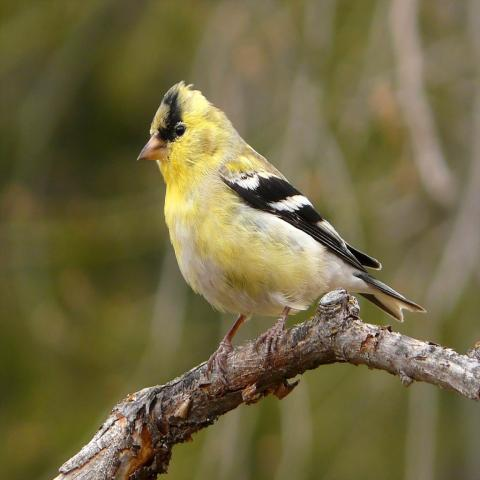bird: (134, 79, 427, 380)
